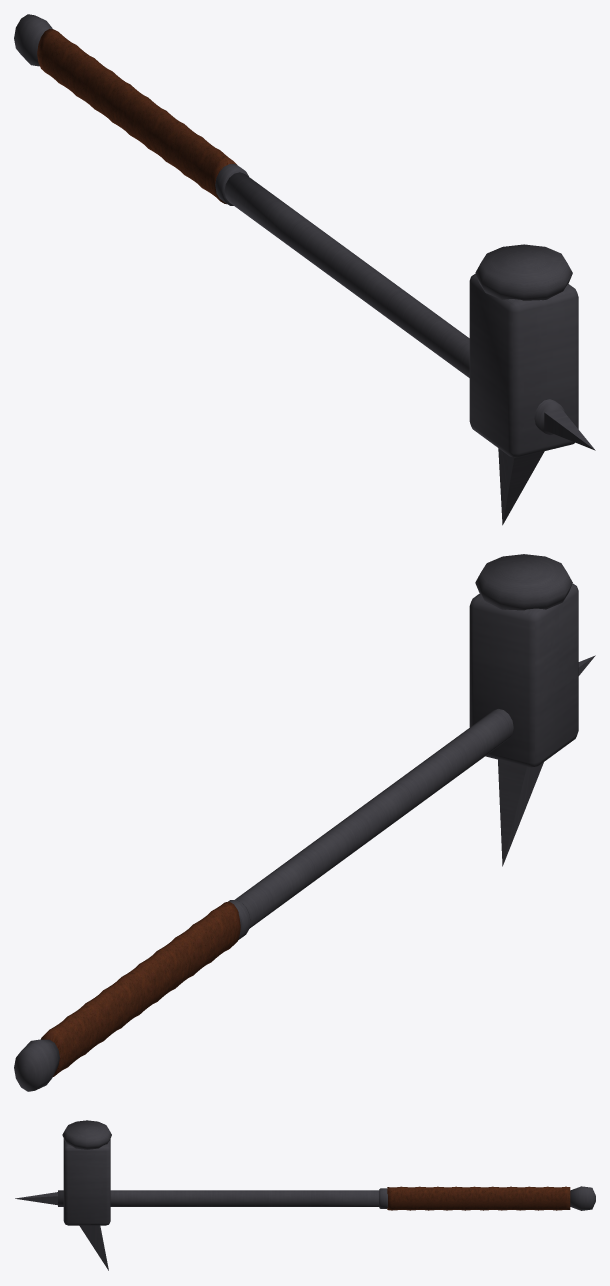
The model's file is weapon_mercy_hammer.glb.
3 renders of one model, top to bottom at view 1: azimuth 30°, elevation 25°; view 2: azimuth 150°, elevation 25°; view 3: azimuth 270°, elevation 25°, orthographic. The views are drawn at different scales.
Visible parts, largest first — view 1: mercy_hammer; view 2: mercy_hammer; view 3: mercy_hammer.
Boxes of the visible parts, <box> form: mercy_hammer: <box>14,14,595,525</box>; mercy_hammer: <box>14,554,595,1091</box>; mercy_hammer: <box>15,1120,595,1270</box>.
Size of the model in its own units: 0.068 by 0.216 by 0.795.
2 materials, 2 textured.
